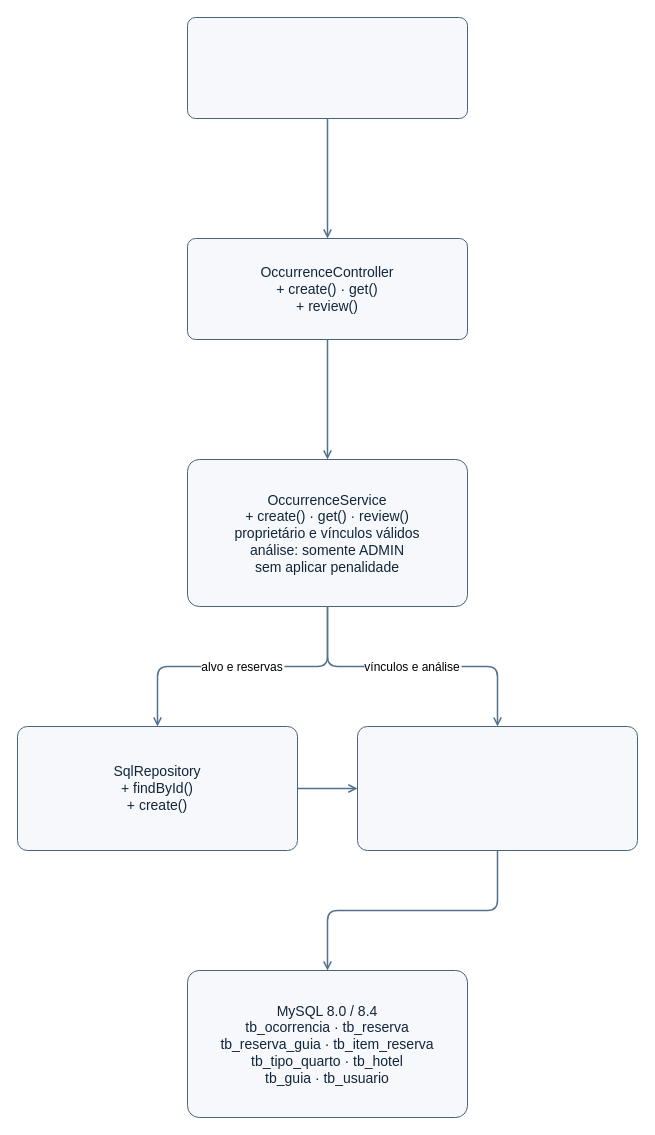
The diagram is 655 pixels wide and 1135 high, and some of its shapes have lost their labels. The shapes that lost their labels are listed below. From the top down, each one's centre as x and y in pixels, then its label:
point (327, 67): OccurrenceRoutes GET / · GET /:id · POST / PATCH /:id/analise
point (497, 788): MySQLPool + execute() consulta vínculos atualiza análise
